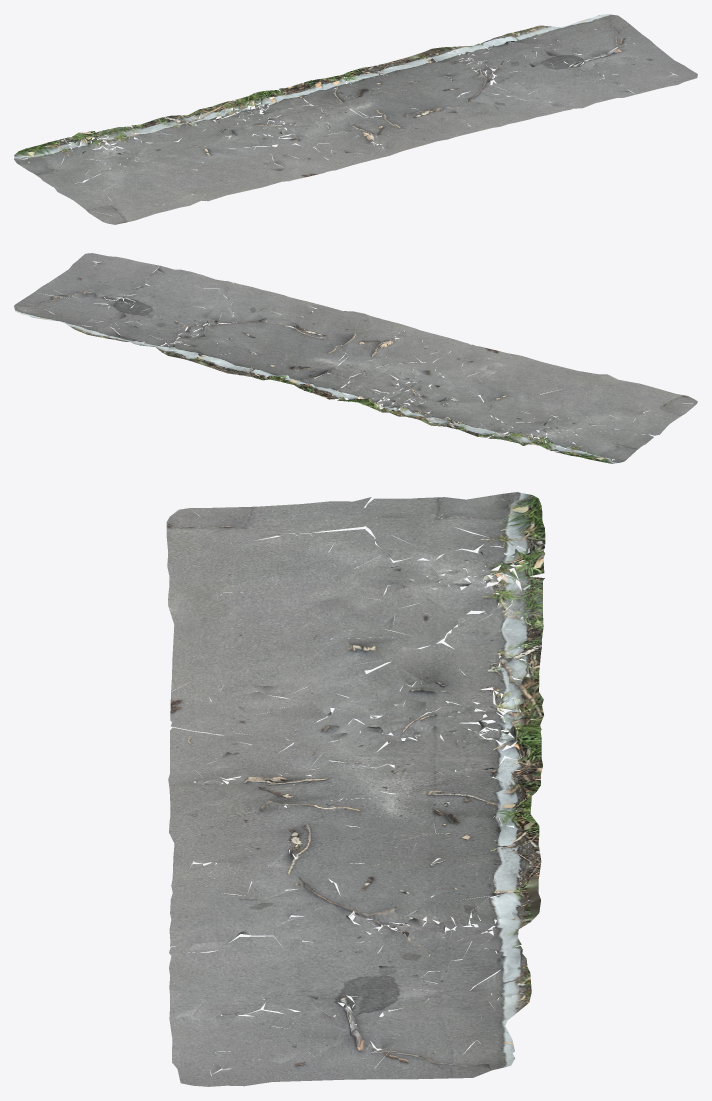
File: road_04.glb
The picture shows the model from 3 angles, top to bottom: view 1: azimuth 30°, elevation 25°; view 2: azimuth 150°, elevation 25°; view 3: azimuth 270°, elevation 25°; orthographic projection. The views are drawn at different scales.
Parts seen in each view (by area): view 1: road_04.001; view 2: road_04.001; view 3: road_04.001.
Part boxes in pixels (bbox=[...]): road_04.001: bbox=[14, 14, 697, 224]; road_04.001: bbox=[14, 253, 697, 463]; road_04.001: bbox=[166, 492, 545, 1086].
Size of the model in its own units: 8.71 by 0.1858 by 2.37.
1 material, 1 textured.
